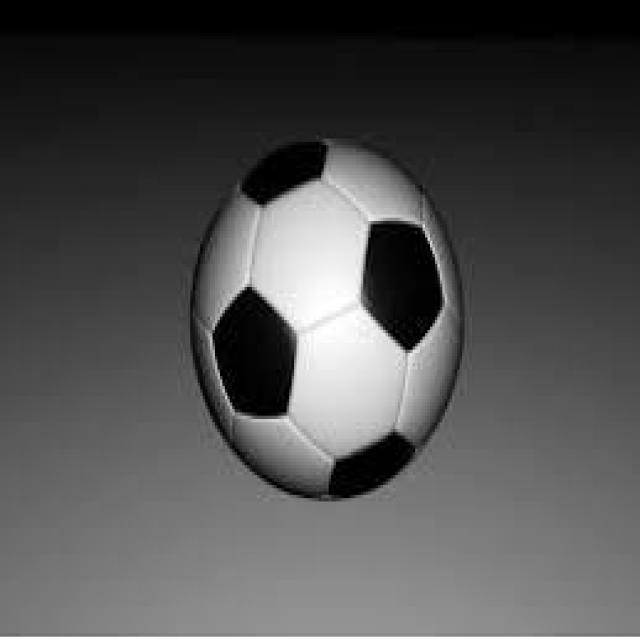Soccer Ball: (193, 138, 462, 504)
